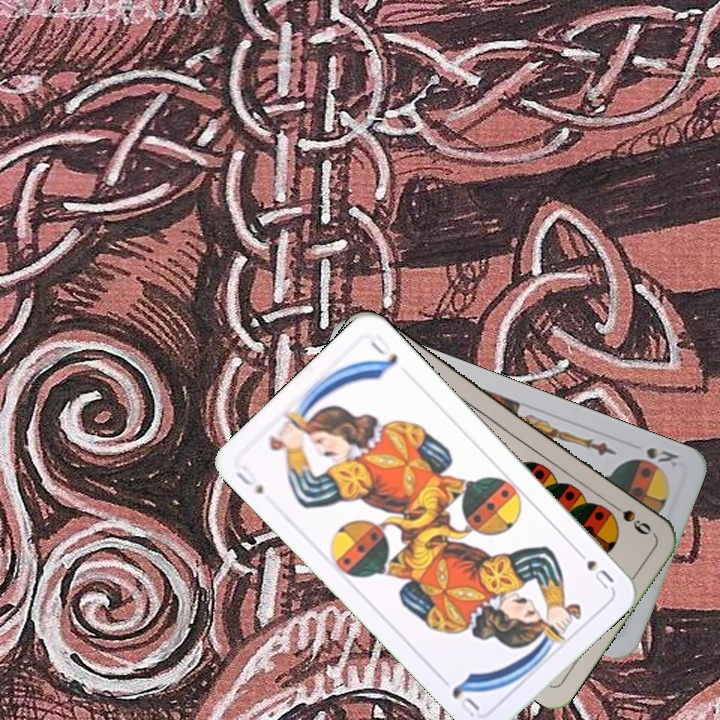S9: (604, 497, 654, 538)
SK: (642, 443, 682, 471)
SU: (570, 543, 617, 592), (231, 461, 267, 497)
